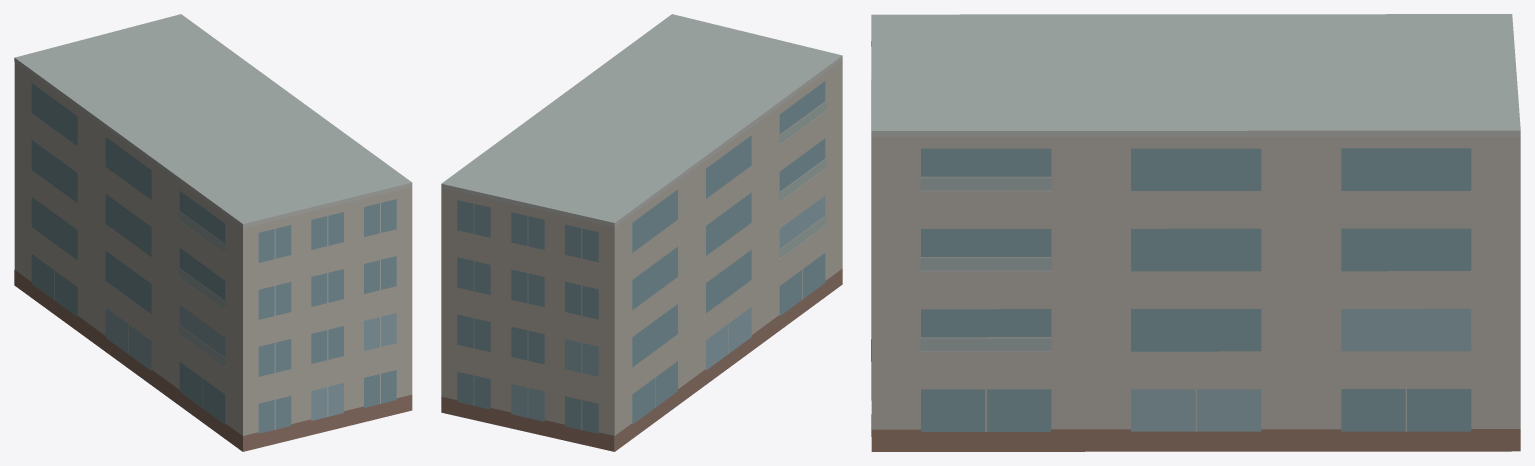
Rendered from survey-upis-32962323.glb.
3 views of the same model, side by side, from view 1: azimuth 30°, elevation 25°; view 2: azimuth 150°, elevation 25°; view 3: azimuth 270°, elevation 25° (orthographic). The views are drawn at different scales.
Parts seen in each view (by area): view 1: survey-upis-32962323.tmp; view 2: survey-upis-32962323.tmp; view 3: survey-upis-32962323.tmp.
Part boxes in pixels (x1=…): survey-upis-32962323.tmp: x1=14, y1=14, x2=412, y2=451; survey-upis-32962323.tmp: x1=441, y1=14, x2=842, y2=451; survey-upis-32962323.tmp: x1=871, y1=14, x2=1520, y2=451.
Bounding box in the file's own units: 10.37 × 13.2 × 24.24.
